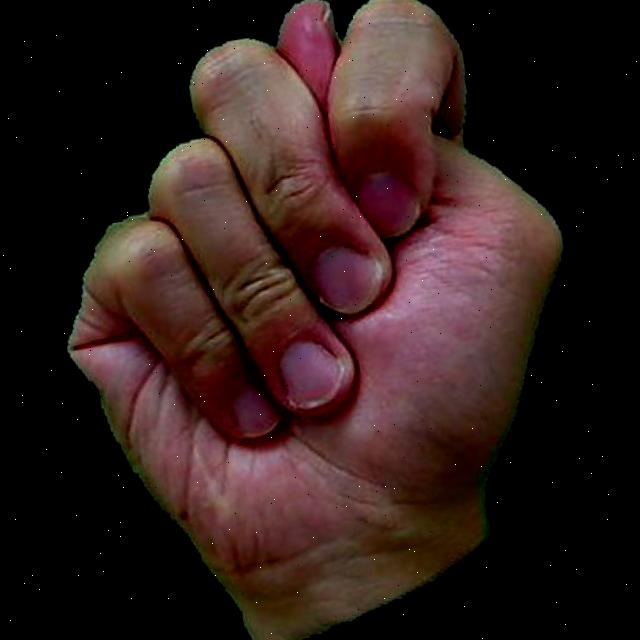t: (1, 0, 633, 640)
